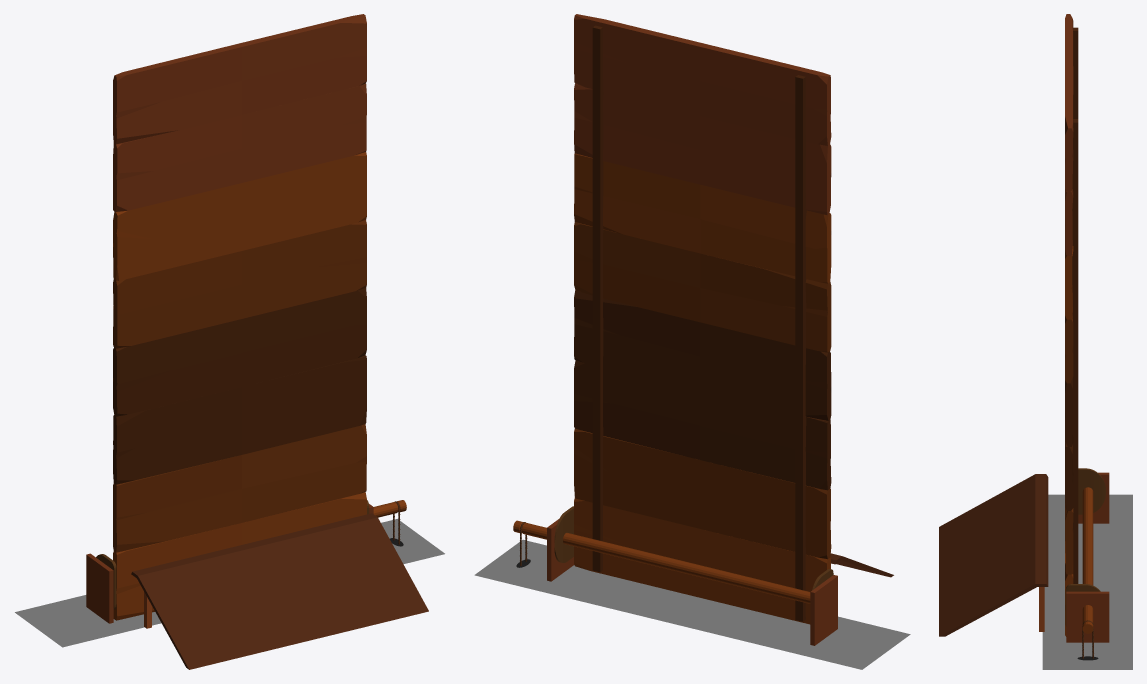
Rendered from FBX_INT_RUIN_Zugrbrücke.fbx.
3 renders of one model, left to right at view 1: azimuth 30°, elevation 25°; view 2: azimuth 150°, elevation 25°; view 3: azimuth 270°, elevation 25°, orthographic. The views are drawn at different scales.
Parts seen in each view (by area): view 1: Cube.008; view 2: Cube.008; view 3: Cube.008.
Part boxes in pixels (bbox=[...]): Cube.008: bbox=[15, 14, 444, 669]; Cube.008: bbox=[474, 14, 910, 669]; Cube.008: bbox=[939, 14, 1132, 669].
Size of the model in its own units: 315 by 433 by 147.
